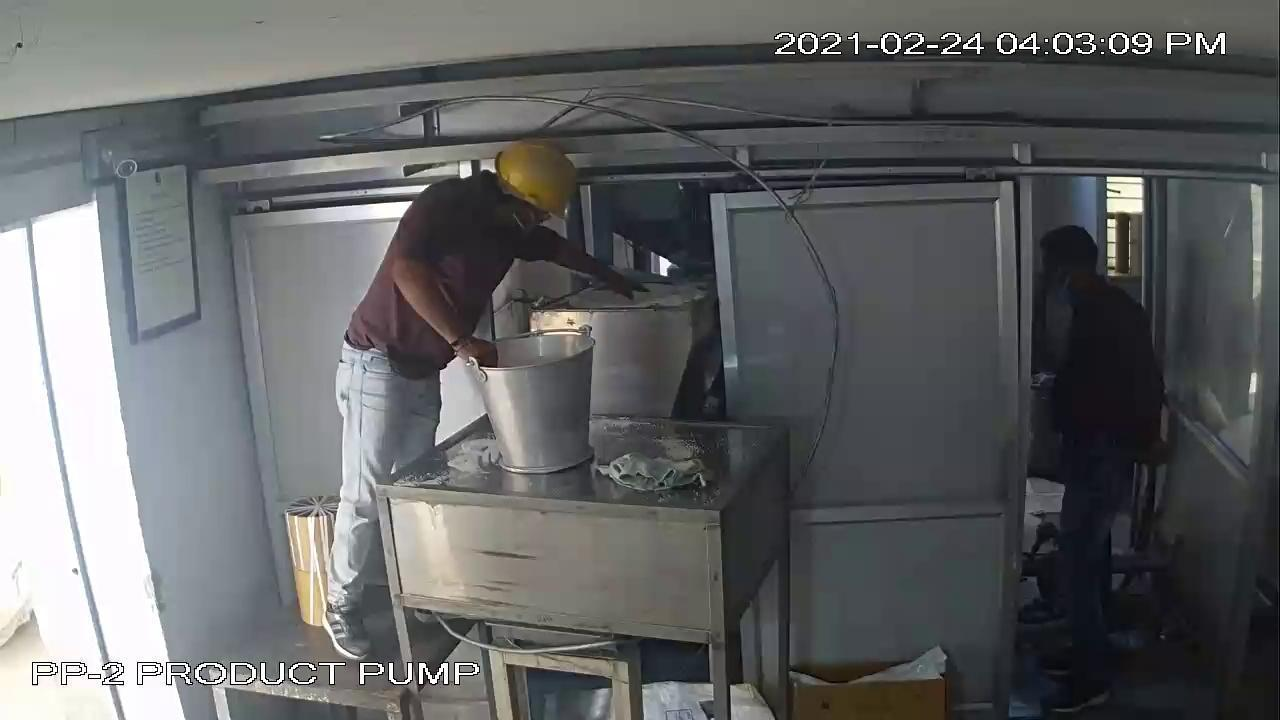helmet: (491, 134, 596, 225)
